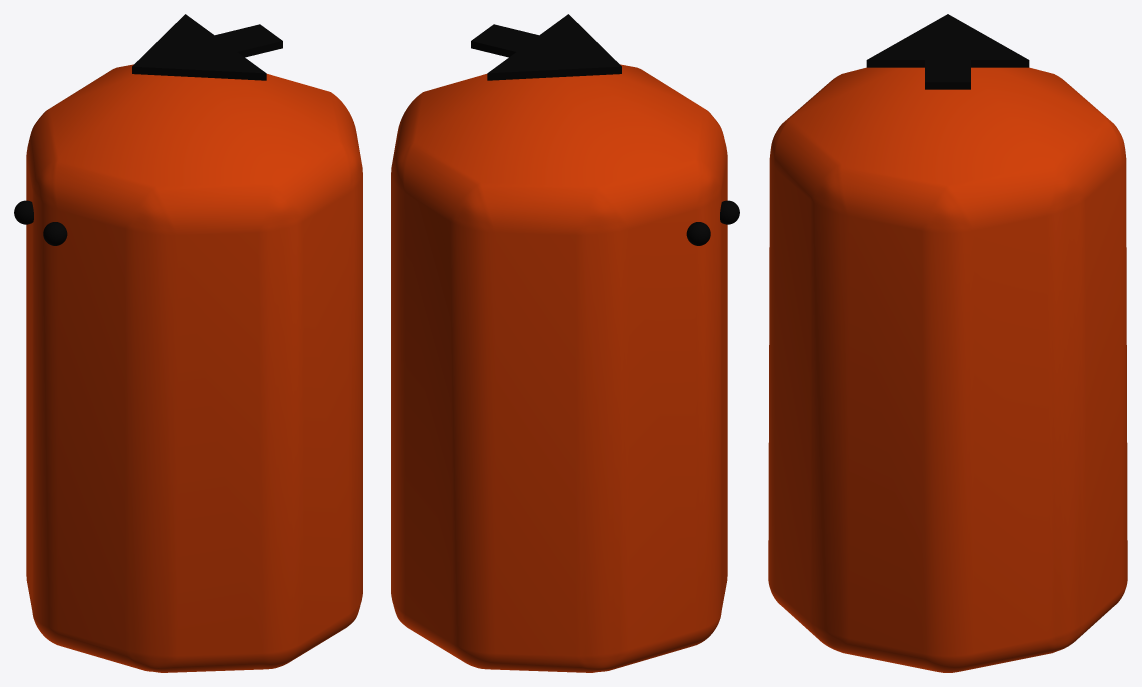
Rendered from sorange.obj.
3 views of the same model, side by side, from view 1: azimuth 30°, elevation 25°; view 2: azimuth 150°, elevation 25°; view 3: azimuth 270°, elevation 25° (orthographic).
Parts seen in each view (by area): view 1: Cube.020_Cube.002; view 2: Cube.020_Cube.002; view 3: Cube.020_Cube.002.
Part boxes in pixels (bbox=[...]): Cube.020_Cube.002: bbox=[14, 14, 362, 672]; Cube.020_Cube.002: bbox=[391, 14, 739, 672]; Cube.020_Cube.002: bbox=[768, 14, 1127, 672].
Size of the model in its own units: 0.2642 by 0.4425 by 0.2565.
